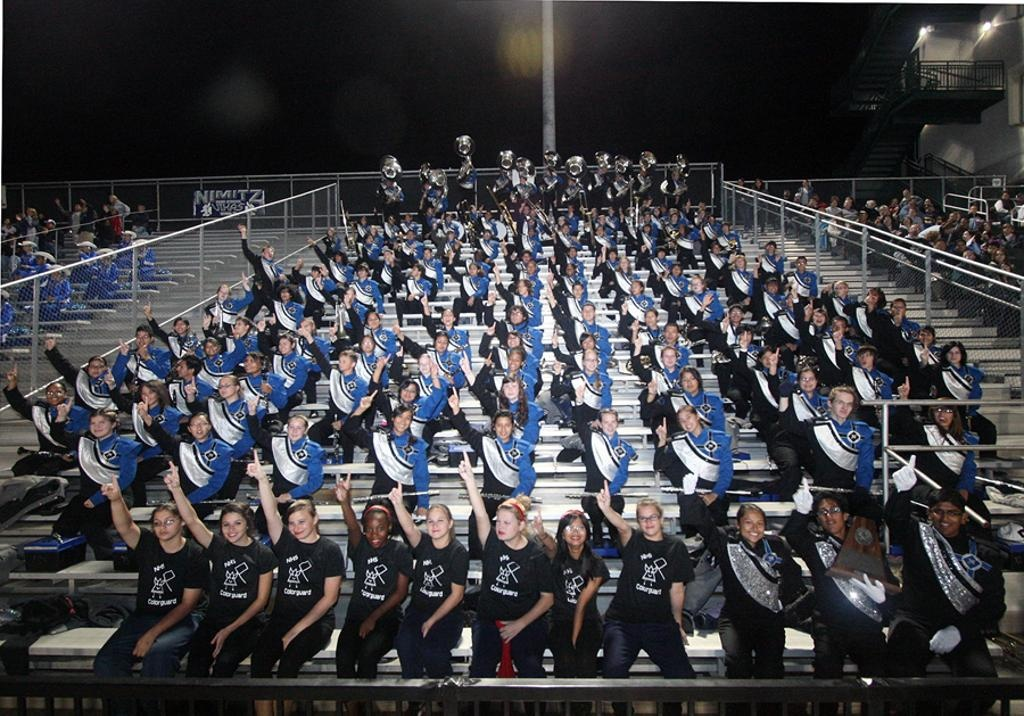human_face: (816, 500, 844, 532), (933, 502, 961, 532), (364, 512, 386, 548), (152, 512, 178, 540), (286, 510, 312, 538), (741, 512, 765, 542), (221, 513, 245, 541), (425, 509, 447, 539), (497, 510, 519, 540), (636, 508, 660, 534), (563, 521, 585, 545), (833, 392, 853, 417), (190, 416, 208, 438), (494, 416, 512, 438), (90, 416, 108, 436), (934, 404, 952, 424), (678, 412, 696, 430), (46, 386, 64, 404), (86, 358, 104, 376), (394, 411, 410, 431), (681, 371, 697, 390), (287, 421, 303, 439), (140, 386, 156, 404), (602, 414, 616, 434), (503, 381, 519, 398), (856, 352, 872, 368), (506, 352, 522, 368), (661, 348, 675, 366), (800, 372, 814, 390), (218, 379, 232, 397), (175, 358, 189, 376), (402, 382, 416, 399), (947, 347, 961, 363), (890, 301, 904, 317), (244, 356, 258, 372), (135, 330, 149, 346), (918, 329, 932, 343), (205, 340, 219, 354), (664, 324, 676, 340), (507, 332, 519, 348), (511, 308, 523, 324), (232, 318, 244, 334), (584, 354, 596, 368), (582, 306, 594, 320), (738, 330, 750, 344), (728, 306, 740, 320), (690, 280, 702, 294), (866, 290, 878, 304), (831, 319, 843, 333), (419, 358, 431, 372), (278, 338, 290, 352), (360, 338, 372, 352), (367, 313, 379, 327), (300, 320, 312, 334), (760, 350, 772, 363), (580, 338, 592, 350), (814, 310, 824, 324), (766, 280, 776, 294), (436, 336, 446, 350), (442, 310, 452, 324), (630, 282, 640, 295), (836, 282, 846, 295), (644, 312, 654, 324), (264, 246, 274, 258), (934, 241, 944, 253), (338, 356, 348, 368), (175, 320, 185, 332), (218, 286, 228, 298), (785, 294, 795, 306), (517, 280, 525, 294), (796, 258, 806, 268), (734, 256, 744, 266), (994, 249, 1004, 259), (922, 199, 932, 209), (281, 288, 289, 300), (345, 289, 353, 301), (574, 285, 582, 295), (766, 242, 774, 252), (620, 258, 628, 268), (358, 266, 366, 276), (410, 265, 418, 275), (469, 264, 477, 274), (422, 249, 430, 259), (383, 250, 391, 260), (1001, 265, 1009, 275), (909, 224, 917, 234), (858, 210, 866, 220), (310, 268, 318, 278), (406, 230, 414, 240), (526, 263, 534, 273), (522, 205, 530, 215), (878, 206, 888, 214), (866, 200, 874, 210), (961, 230, 969, 239), (882, 217, 890, 226), (987, 244, 995, 253), (565, 264, 573, 272), (672, 266, 680, 274), (52, 270, 60, 278), (956, 241, 964, 249), (483, 210, 491, 218), (616, 170, 624, 178), (527, 220, 535, 228), (484, 230, 490, 240), (99, 252, 105, 262), (334, 253, 340, 263), (713, 244, 719, 253), (568, 248, 574, 256), (608, 251, 614, 259), (656, 250, 664, 256), (722, 224, 728, 232), (562, 224, 568, 232), (597, 226, 603, 234), (34, 255, 40, 263), (78, 246, 86, 252), (1003, 224, 1009, 232), (1002, 192, 1010, 198), (970, 205, 976, 213), (902, 218, 908, 226), (960, 219, 966, 227), (937, 215, 943, 223), (908, 207, 914, 215), (366, 235, 372, 243), (698, 201, 704, 209), (830, 198, 836, 206), (522, 252, 528, 260), (568, 177, 574, 185), (640, 166, 646, 174), (388, 180, 394, 188), (558, 217, 564, 225), (426, 208, 432, 216), (964, 253, 970, 260), (949, 213, 955, 220), (566, 205, 572, 212), (802, 178, 808, 185), (462, 159, 468, 166), (432, 182, 438, 189), (671, 214, 677, 220), (528, 228, 534, 234), (653, 208, 659, 214), (423, 177, 429, 183), (123, 234, 129, 240), (136, 246, 142, 252), (22, 244, 28, 250), (26, 208, 32, 214), (844, 197, 850, 203), (902, 190, 908, 196), (922, 216, 928, 222), (326, 229, 332, 235), (446, 232, 452, 238), (598, 216, 604, 222), (606, 208, 612, 214), (782, 192, 788, 198), (812, 192, 818, 198), (598, 166, 604, 172), (672, 170, 676, 178), (520, 176, 524, 184), (404, 214, 408, 221), (708, 216, 714, 220), (644, 225, 648, 231), (644, 214, 648, 220), (138, 204, 142, 210), (360, 217, 364, 223), (388, 216, 392, 222), (444, 214, 450, 218), (738, 179, 742, 185), (754, 180, 760, 184), (103, 205, 107, 210), (46, 222, 50, 226), (74, 204, 78, 208), (109, 196, 113, 200), (5, 222, 9, 226), (16, 214, 20, 218)
